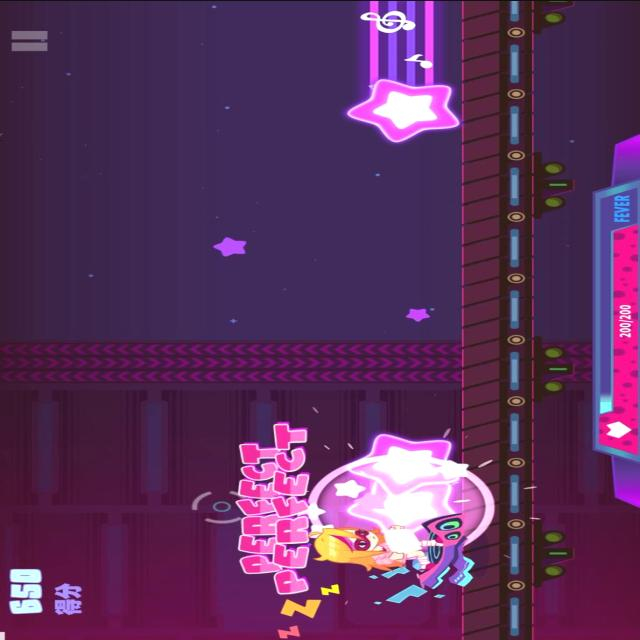hold: (350, 2, 458, 138)
